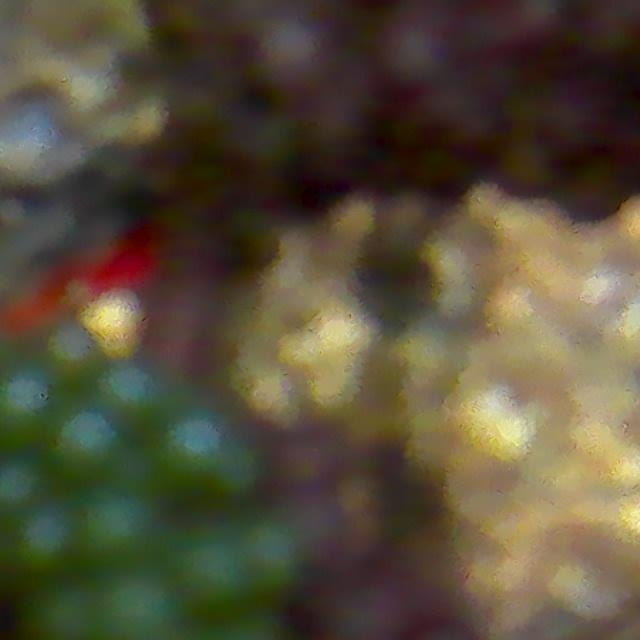SeaGrape: (175, 529, 256, 608), (97, 566, 181, 640), (80, 486, 159, 564), (256, 15, 327, 90), (24, 581, 110, 640), (237, 516, 305, 589), (12, 500, 79, 570), (381, 18, 448, 86), (55, 407, 120, 471), (163, 411, 226, 476), (97, 358, 161, 419), (0, 368, 51, 434), (0, 457, 43, 514)
